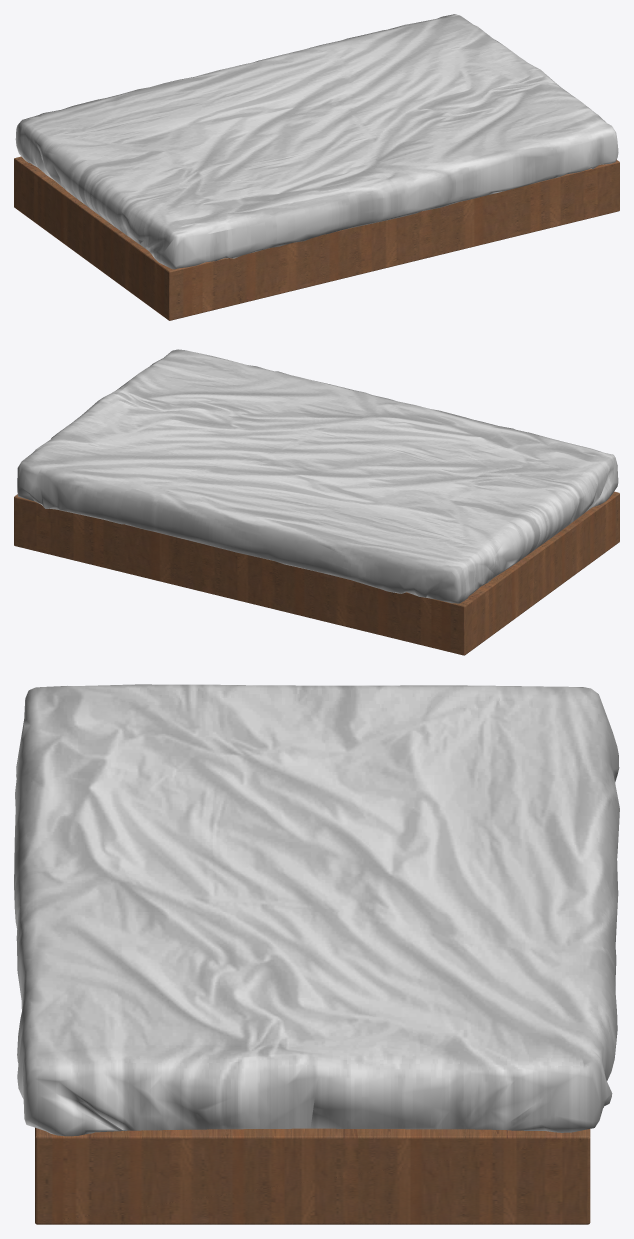
File: Bed.fbx
The picture shows the model from 3 angles, top to bottom: view 1: azimuth 30°, elevation 25°; view 2: azimuth 150°, elevation 25°; view 3: azimuth 270°, elevation 25°; orthographic projection. The views are drawn at different scales.
Visible parts, largest first — view 1: bed; view 2: bed; view 3: bed.
Part boxes in pixels (x1,y1,x2,y2): bed: (14, 14, 619, 320); bed: (14, 349, 619, 655); bed: (14, 684, 619, 1224).
Bounding box in the file's own units: 186 × 35.14 × 120.
